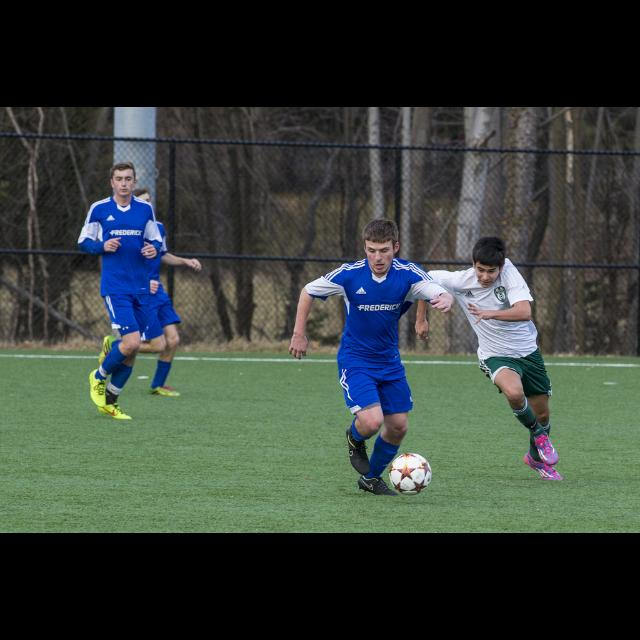Football: (385, 452, 431, 494)
